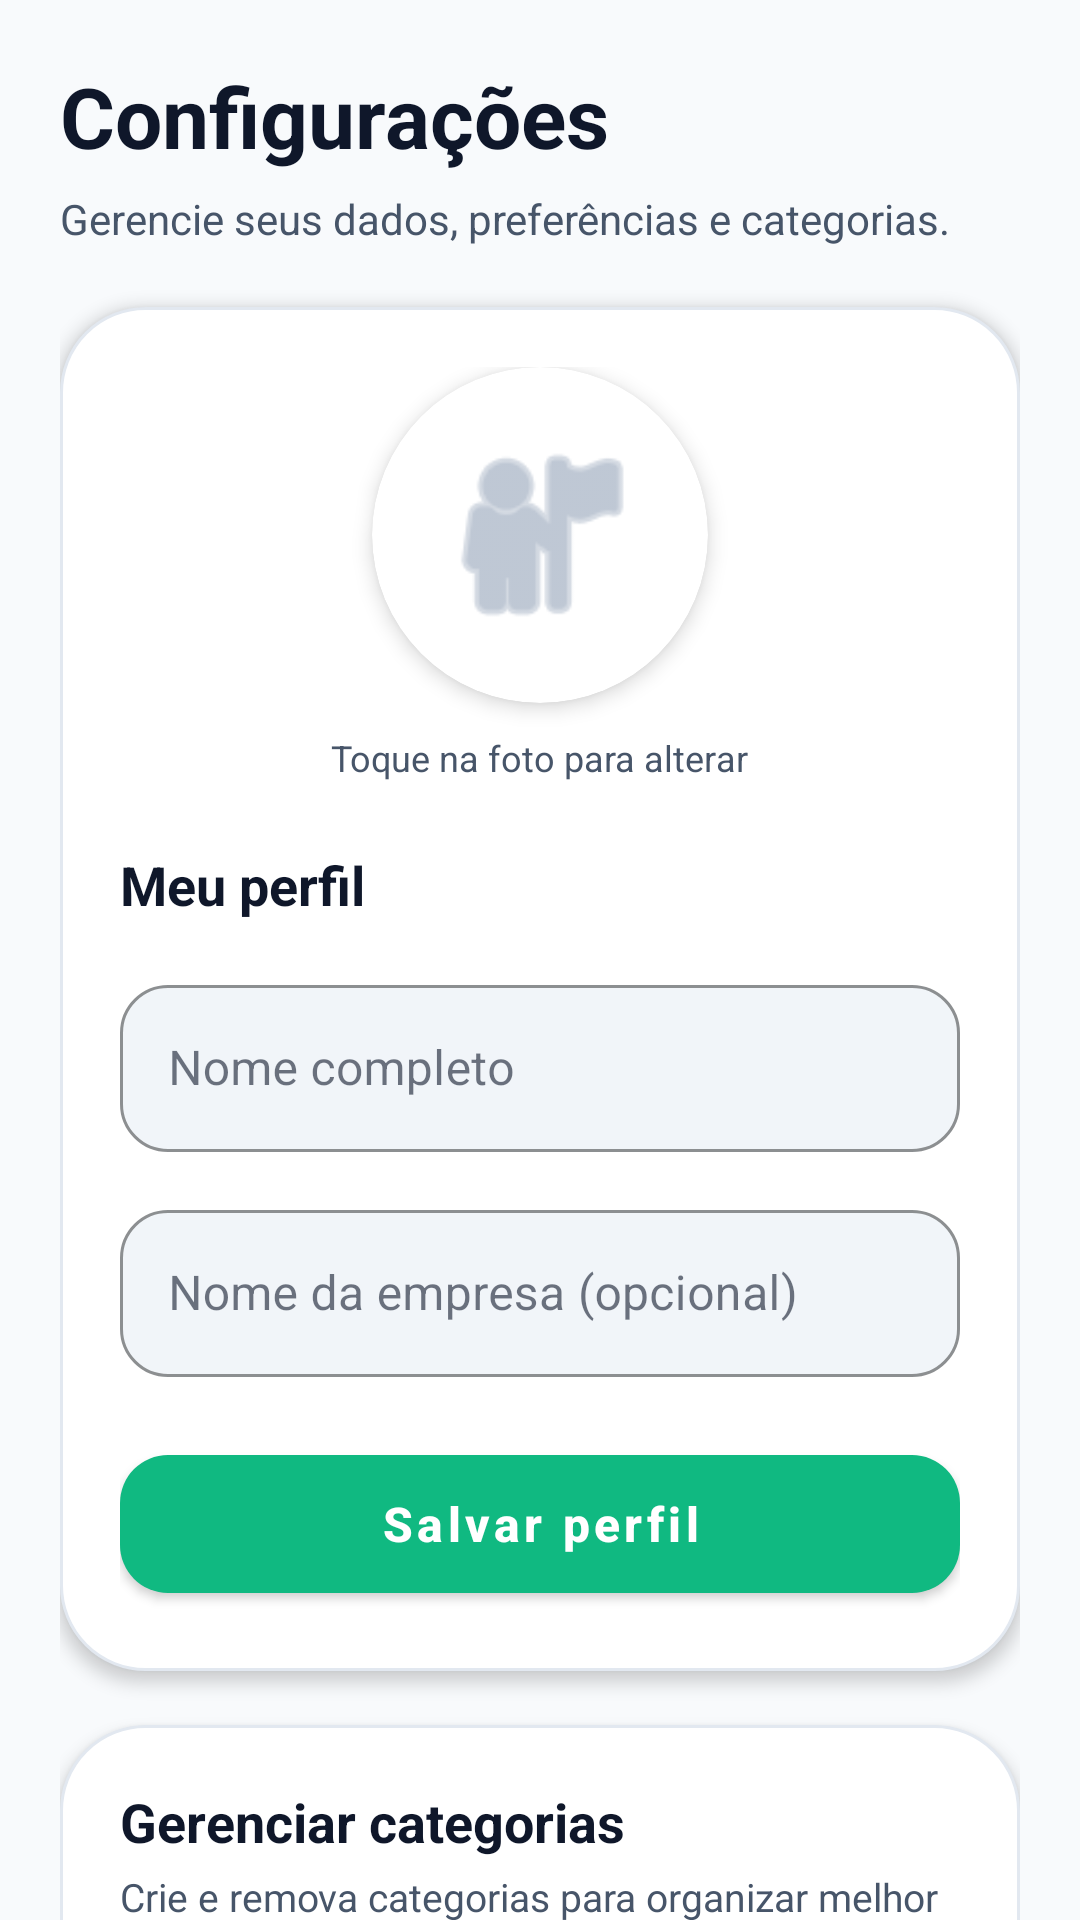

Where icons sit on this 1080 × 1920 app screen, as (x1, y1, x2, y2):
Foto de perfil: (373, 456, 701, 703)
